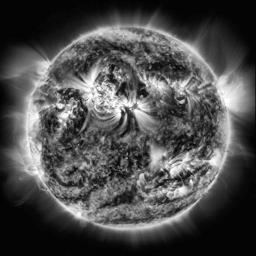solar flares: (79, 78, 109, 111), (113, 94, 144, 118), (144, 143, 168, 174), (112, 30, 162, 44), (52, 104, 79, 128), (173, 154, 198, 173), (144, 78, 169, 96), (164, 181, 192, 195), (174, 78, 191, 100)
sunspots: (200, 98, 215, 148), (166, 127, 198, 150), (60, 129, 87, 155), (149, 59, 189, 76), (107, 189, 136, 210), (153, 98, 184, 117), (95, 45, 138, 58), (116, 76, 144, 94), (120, 150, 143, 171), (119, 112, 137, 137), (76, 58, 96, 77), (86, 174, 108, 188), (57, 86, 76, 102), (47, 115, 63, 132), (74, 118, 87, 132), (110, 140, 123, 152)
